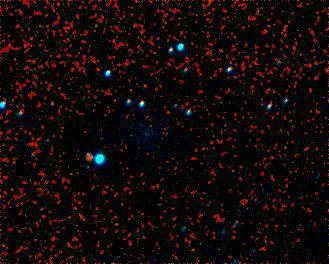star: (72, 142, 102, 172)
